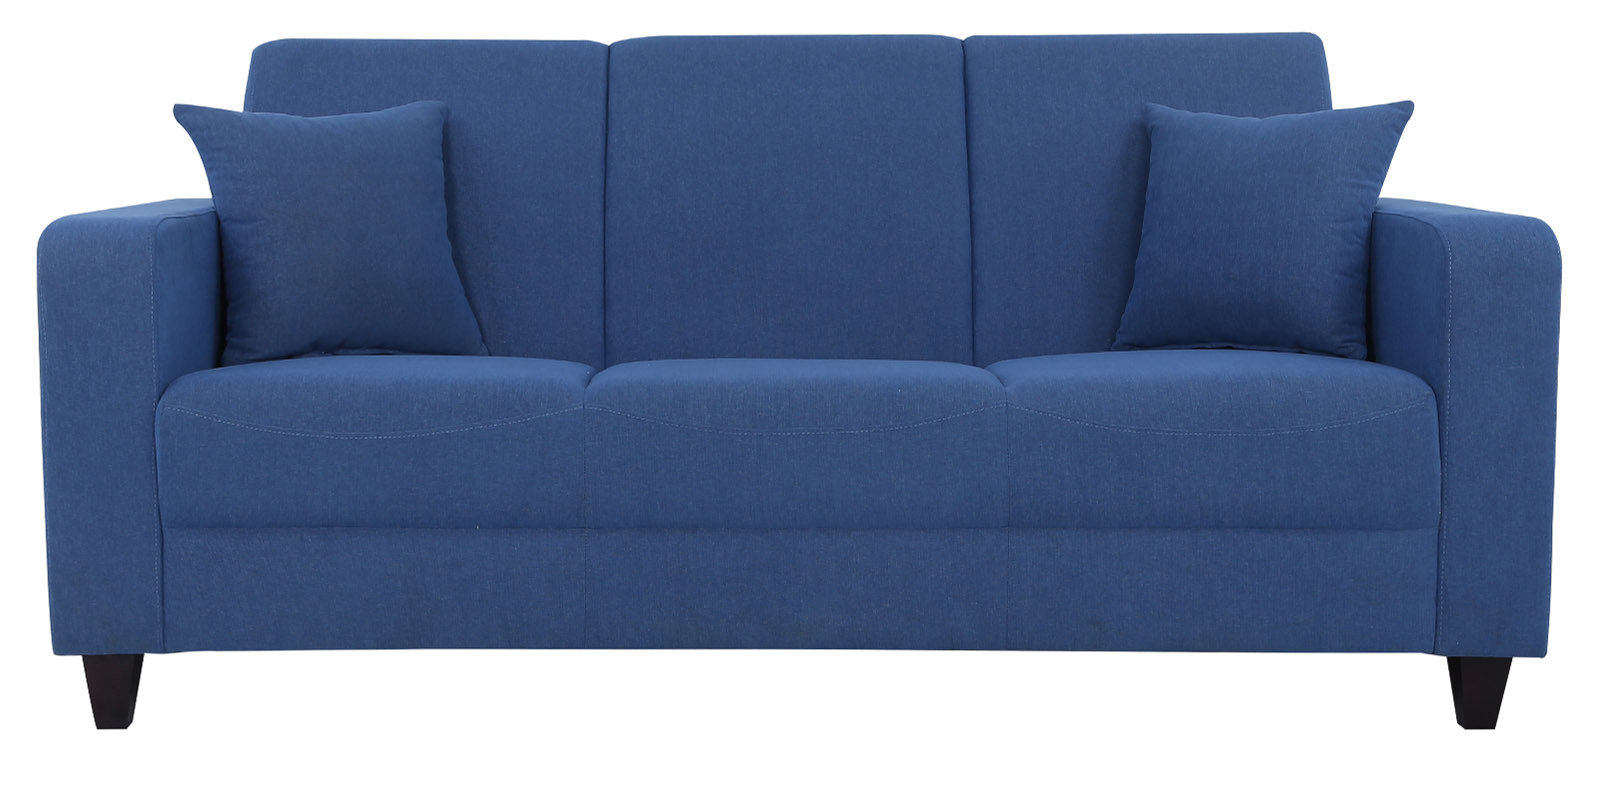Alba Three Seater Sofa in Denim Blue Colour by CasaCraft: (31, 24, 1564, 745)
